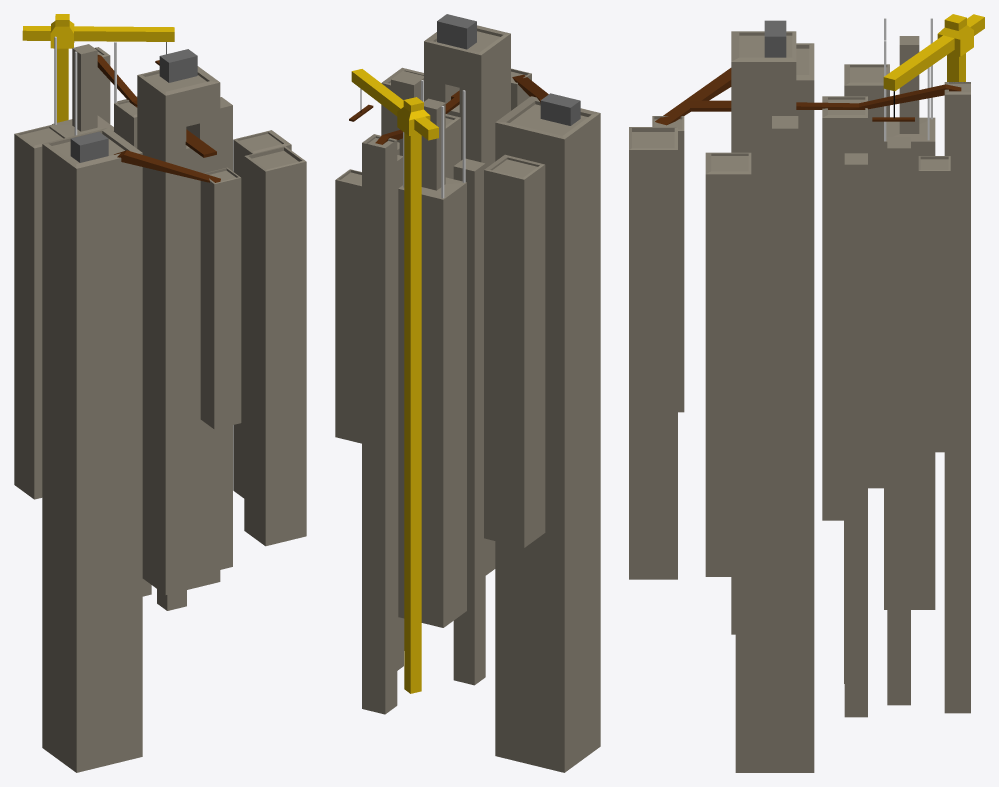
The model's file is the first map!.glb.
3 views of the same model, side by side, from view 1: azimuth 30°, elevation 25°; view 2: azimuth 150°, elevation 25°; view 3: azimuth 270°, elevation 25° (orthographic). The views are drawn at different scales.
Parts seen in each view (by area): view 1: Cube.018, Cube.015, Cube.022, Cube.024, Cube.017, Cube.008, Cube.025, Cube.023, Cube.001, Cube.020, Cube.010, Cube.019 (+3 smaller); view 2: Cube.018, Cube.001, Cube.024, Cube.006, Cube.008, Cube.005, Cube.015, Cube.002, Cube, Cube.020, Cube.019, Cube.004 (+3 smaller); view 3: Cube.022, Cube.018, Cube.025, Cube.015, Cube.006, Cube.023, Cube, Cube.003, Cube.004, Cube.001, Cube.002, Cube.024 (+6 smaller).
Part boxes in pixels (<box>): Cube.018: <box>42,127,142,772</box>; Cube.015: <box>137,66,220,594</box>; Cube.022: <box>244,146,306,546</box>; Cube.024: <box>14,124,69,499</box>; Cube.017: <box>200,167,241,429</box>; Cube.008: <box>22,14,174,122</box>; Cube.025: <box>233,130,291,498</box>; Cube.023: <box>220,97,232,569</box>; Cube.001: <box>52,44,113,136</box>; Cube.020: <box>159,49,197,82</box>; Cube.010: <box>114,150,220,182</box>; Cube.019: <box>70,132,108,162</box>; Cube.018: <box>495,96,600,772</box>; Cube.001: <box>398,98,466,627</box>; Cube.024: <box>484,154,545,547</box>; Cube.006: <box>362,134,397,714</box>; Cube.008: <box>351,69,438,693</box>; Cube.005: <box>453,158,485,685</box>; Cube.015: <box>424,25,510,575</box>; Cube.002: <box>335,169,361,443</box>; Cube: <box>397,155,403,670</box>; Cube.020: <box>437,14,476,49</box>; Cube.019: <box>540,93,580,125</box>; Cube.004: <box>399,114,460,179</box>; Cube.022: <box>629,127,677,579</box>; Cube.018: <box>735,43,814,772</box>; Cube.025: <box>705,152,751,576</box>; Cube.015: <box>731,31,796,634</box>; Cube.006: <box>944,82,970,713</box>; Cube.023: <box>772,116,798,657</box>; Cube: <box>887,137,910,705</box>; Cube.003: <box>844,153,867,717</box>; Cube.004: <box>822,96,867,520</box>; Cube.001: <box>884,36,935,609</box>; Cube.002: <box>918,156,950,452</box>; Cube.024: <box>844,64,889,488</box>.
Bounding box in the file's own units: 199 × 635 × 265.
